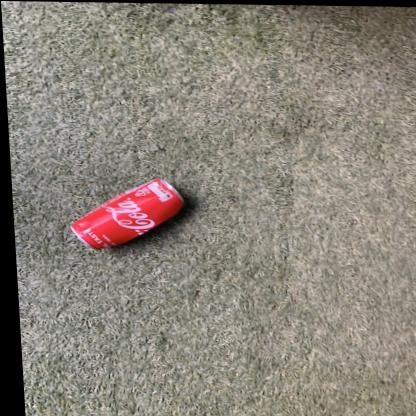trash: (71, 178, 183, 248)
